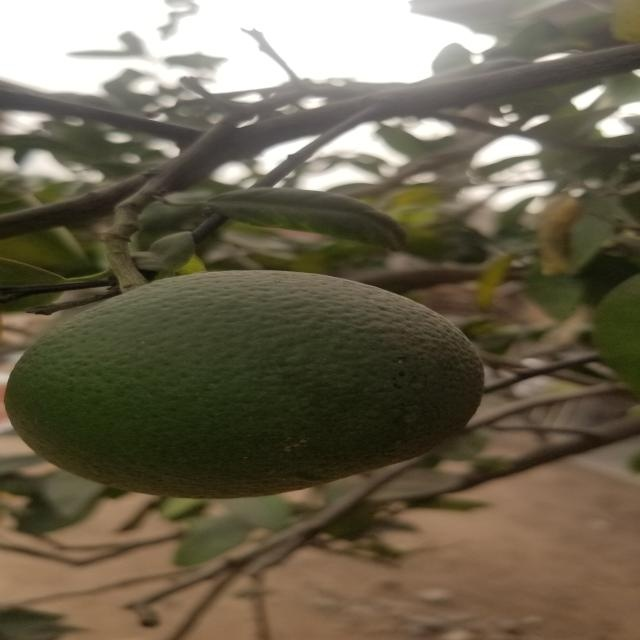agrume: (10, 270, 480, 495)
